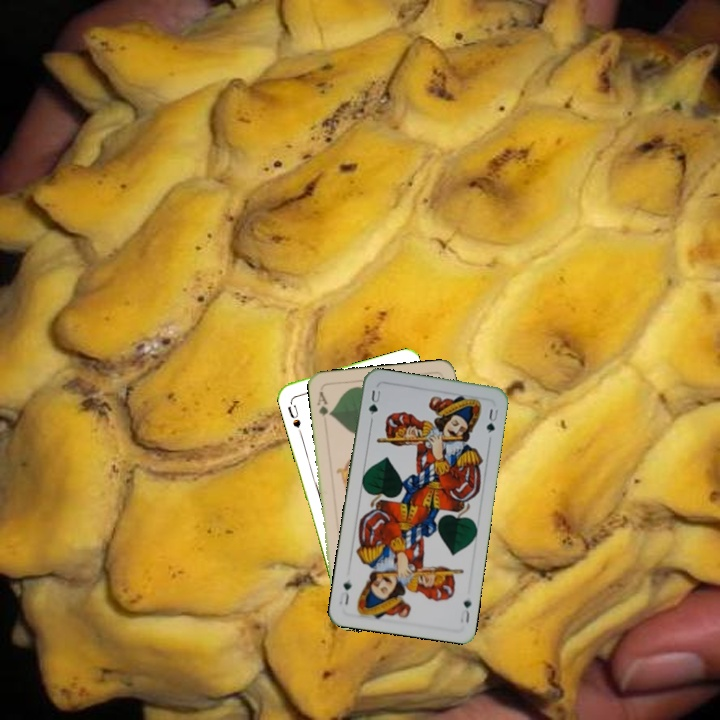GA: (313, 387, 334, 419)
GU: (365, 386, 383, 417), (456, 596, 474, 626)
SU: (283, 396, 303, 430)
